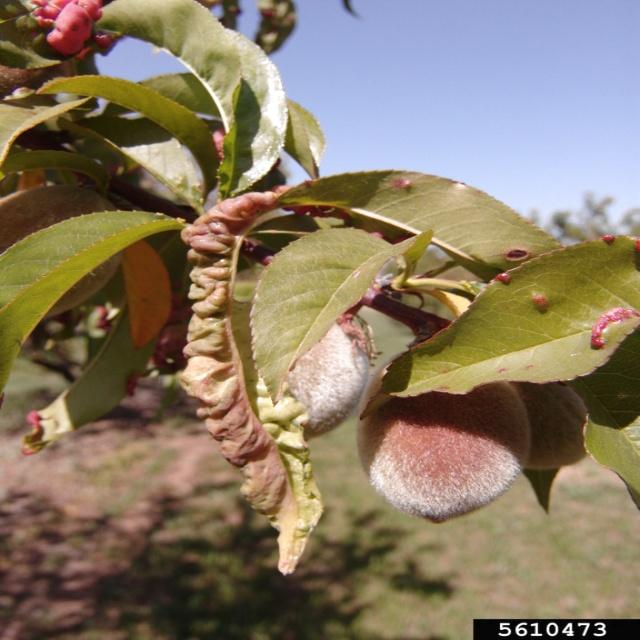leaf_curl: (132, 167, 376, 574)
